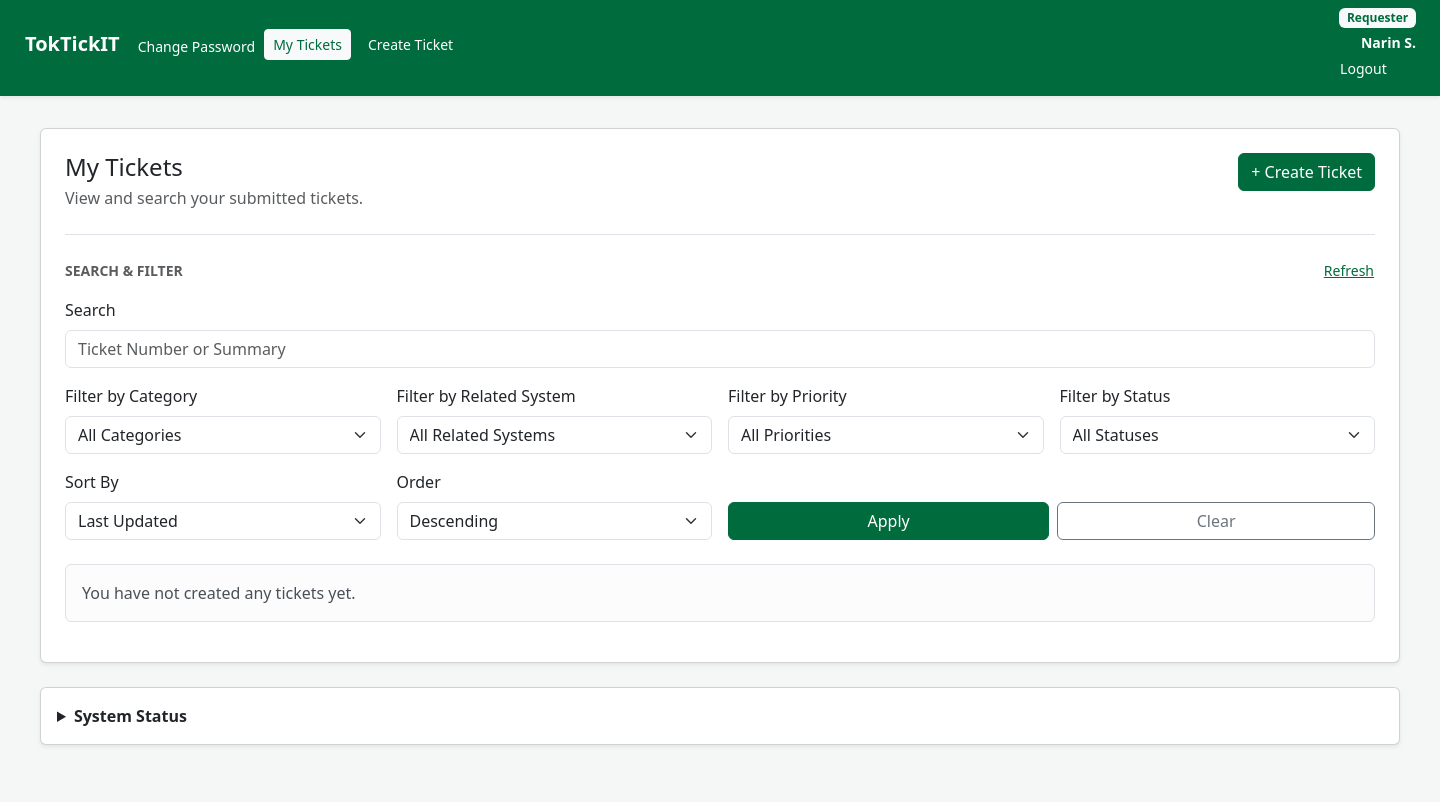
Lab 2 - Create Ticket UI › creates a ticket and displays the Ticket Number
Expected: the heading "My Tickets" is shown, [65,150,183,183]
Click the button "Create Ticket" at [410, 44], box [359,29,462,60]
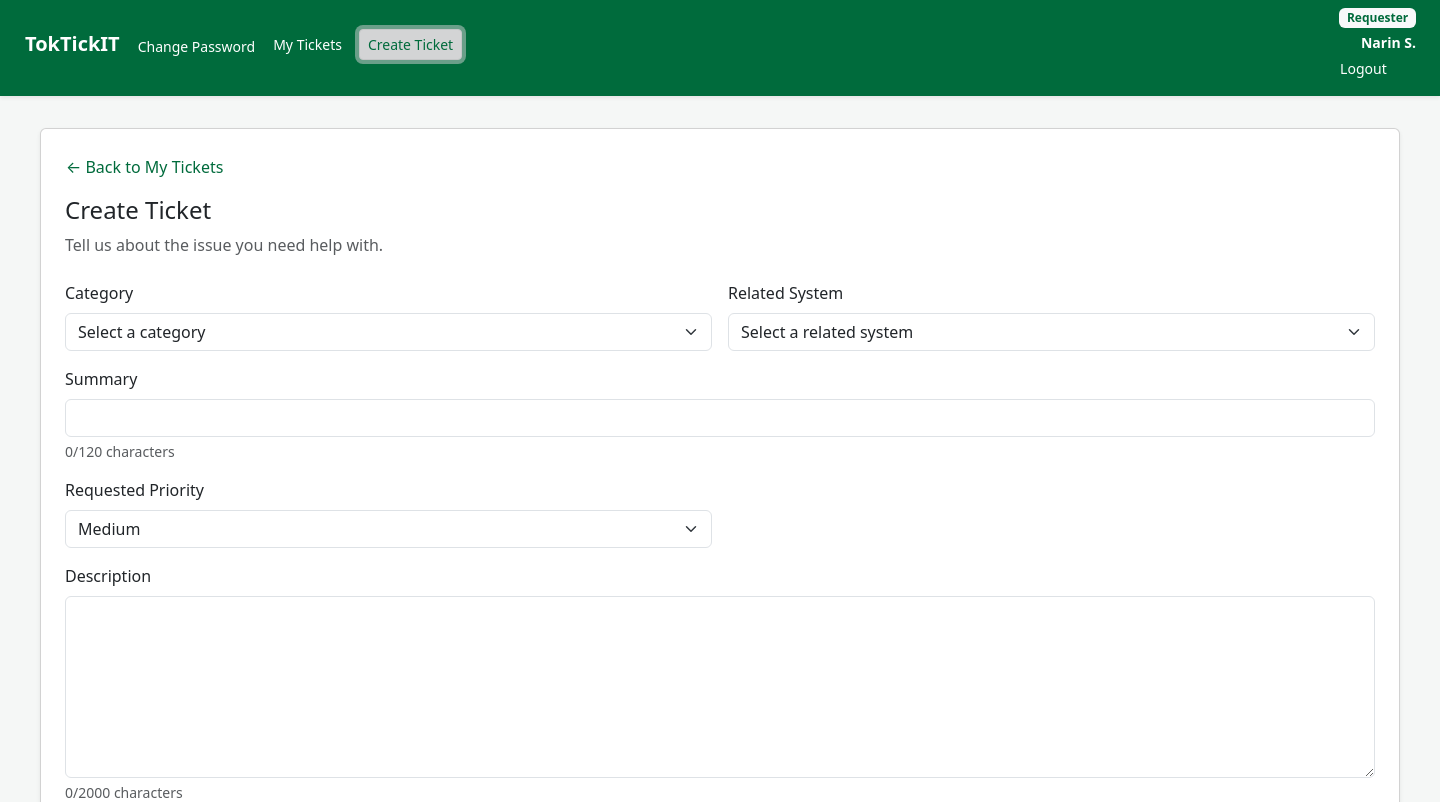
Now the heading "Create Ticket" is shown, box [65,193,211,226]
Select "Network" in the dropdown labelled "Category" at [388, 332], box [65,313,712,351]
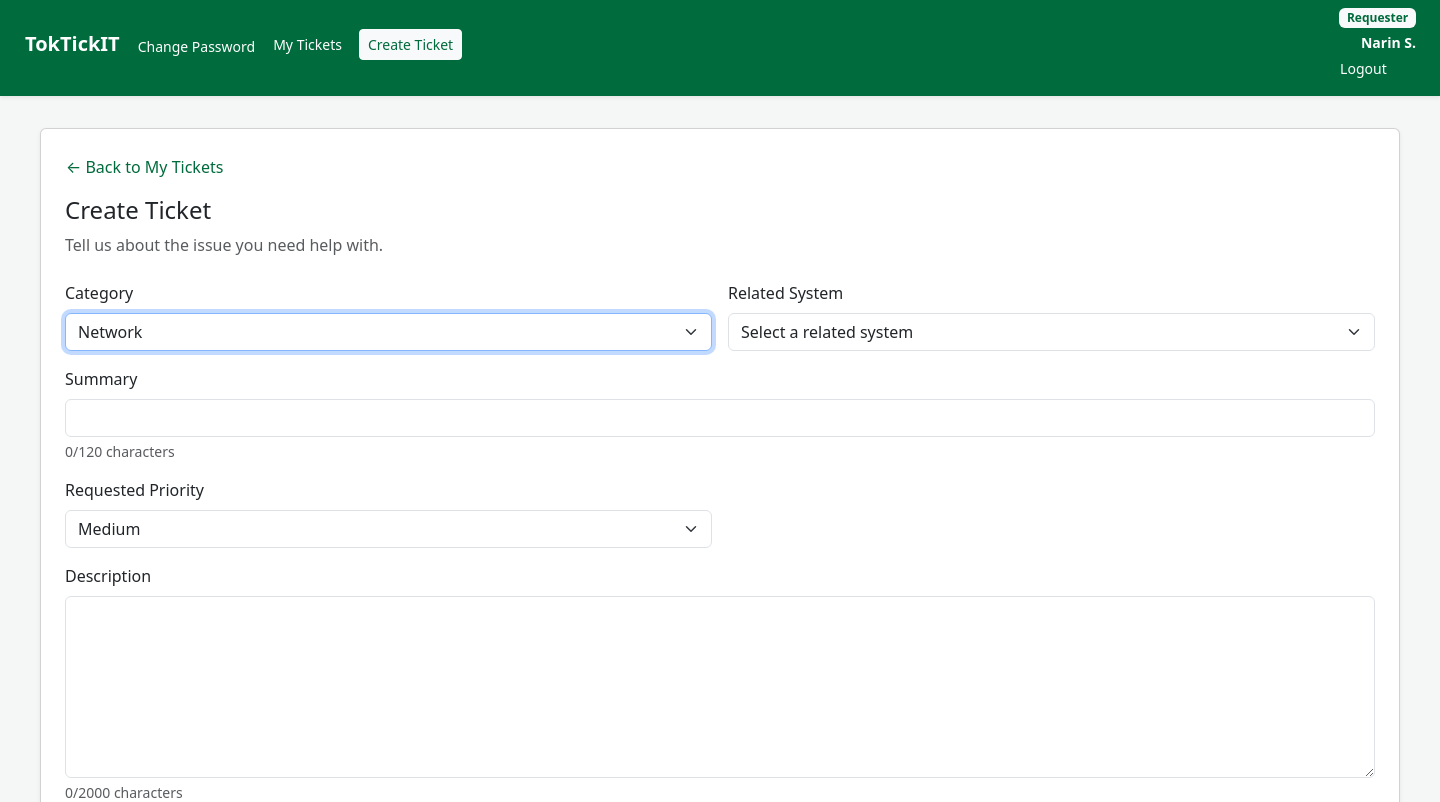
Select "Campus Wi-Fi" in the dropdown labelled "Related System" at [1052, 332], box [728,313,1375,351]
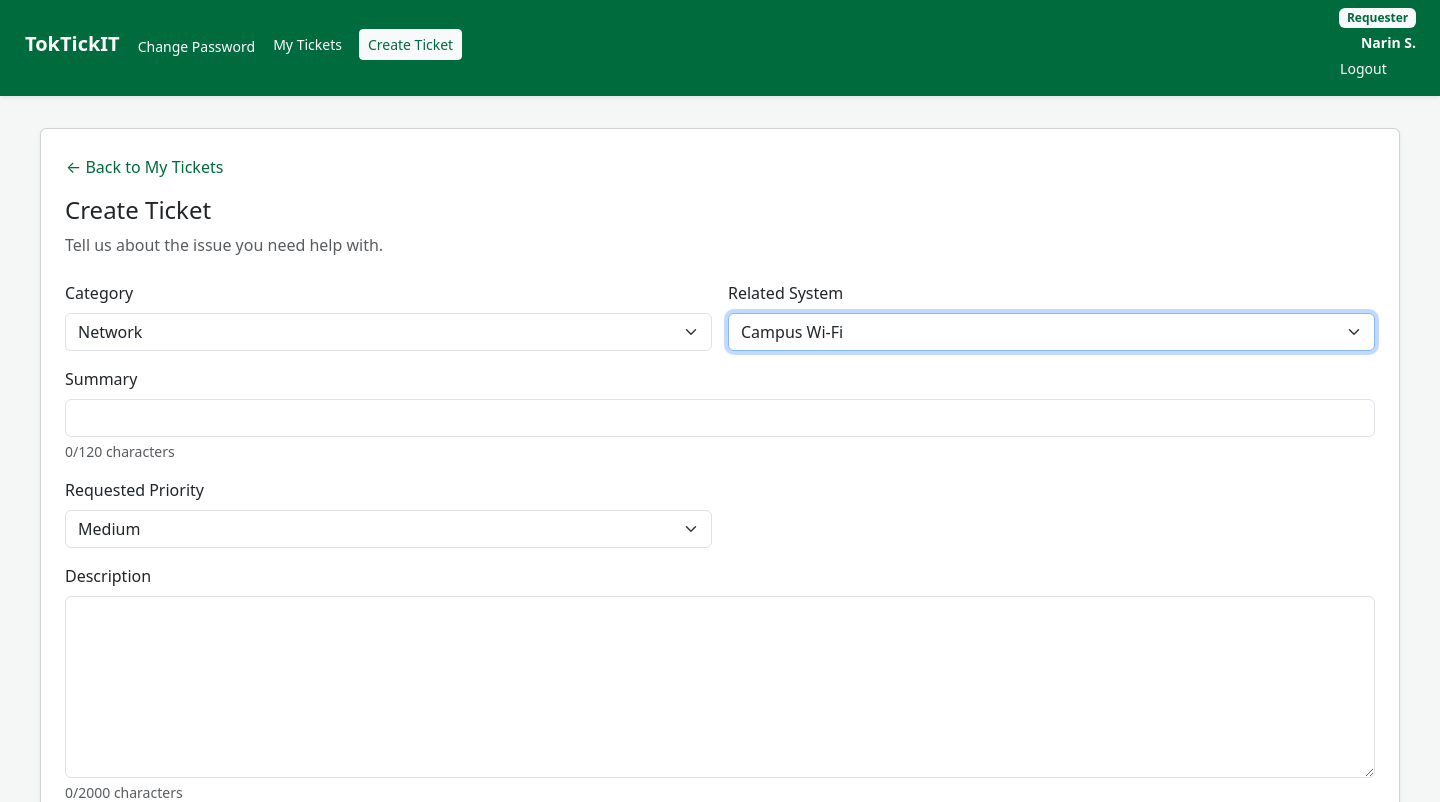
Type "Unable to connect to campus Wi-Fi" into the field labelled "Summary" at [720, 418], box [65,399,1375,437]
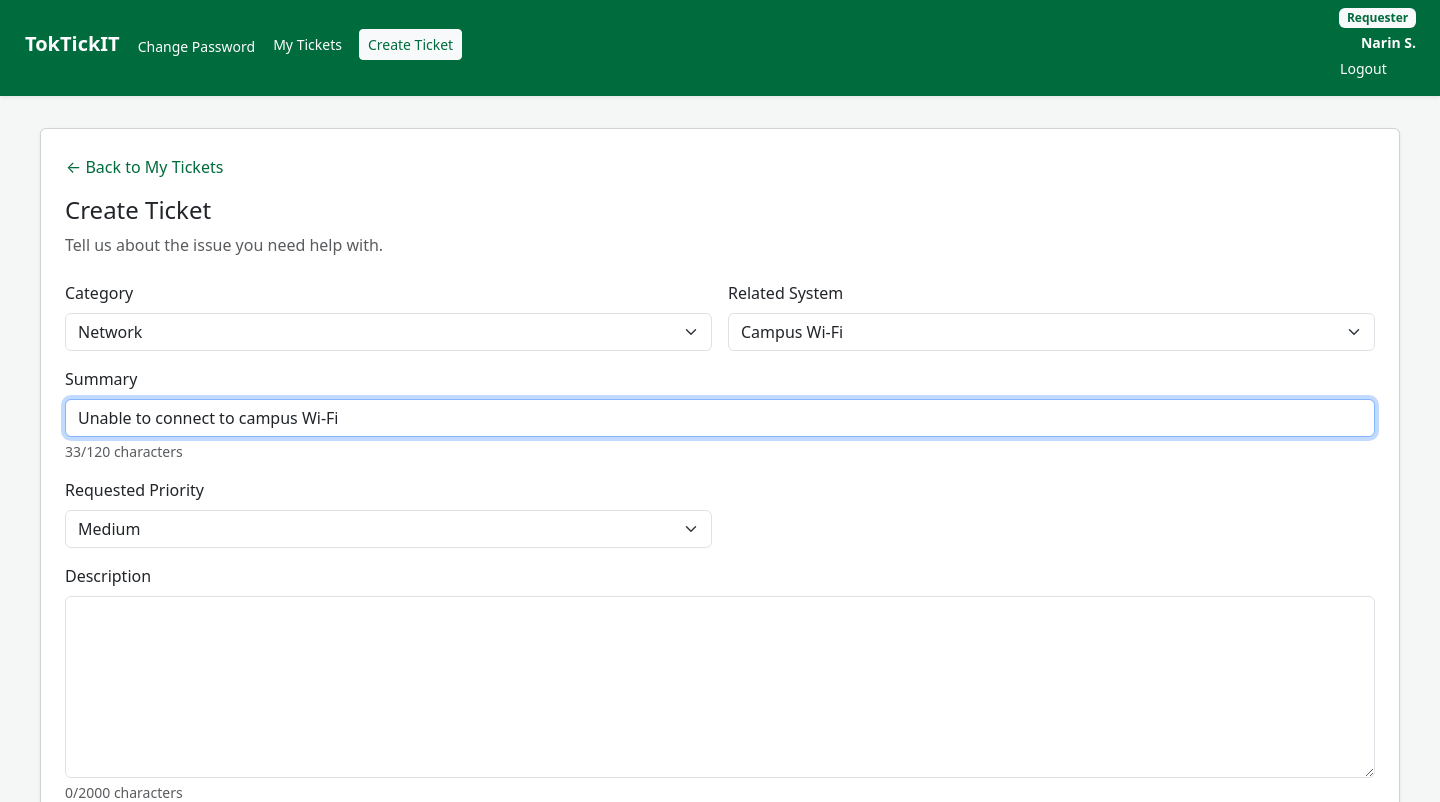
Type "I cannot connect to the campus Wi-Fi from the engineering building." into the text box labelled "Description" at [720, 687], box [65,596,1375,778]
(page scrolled)
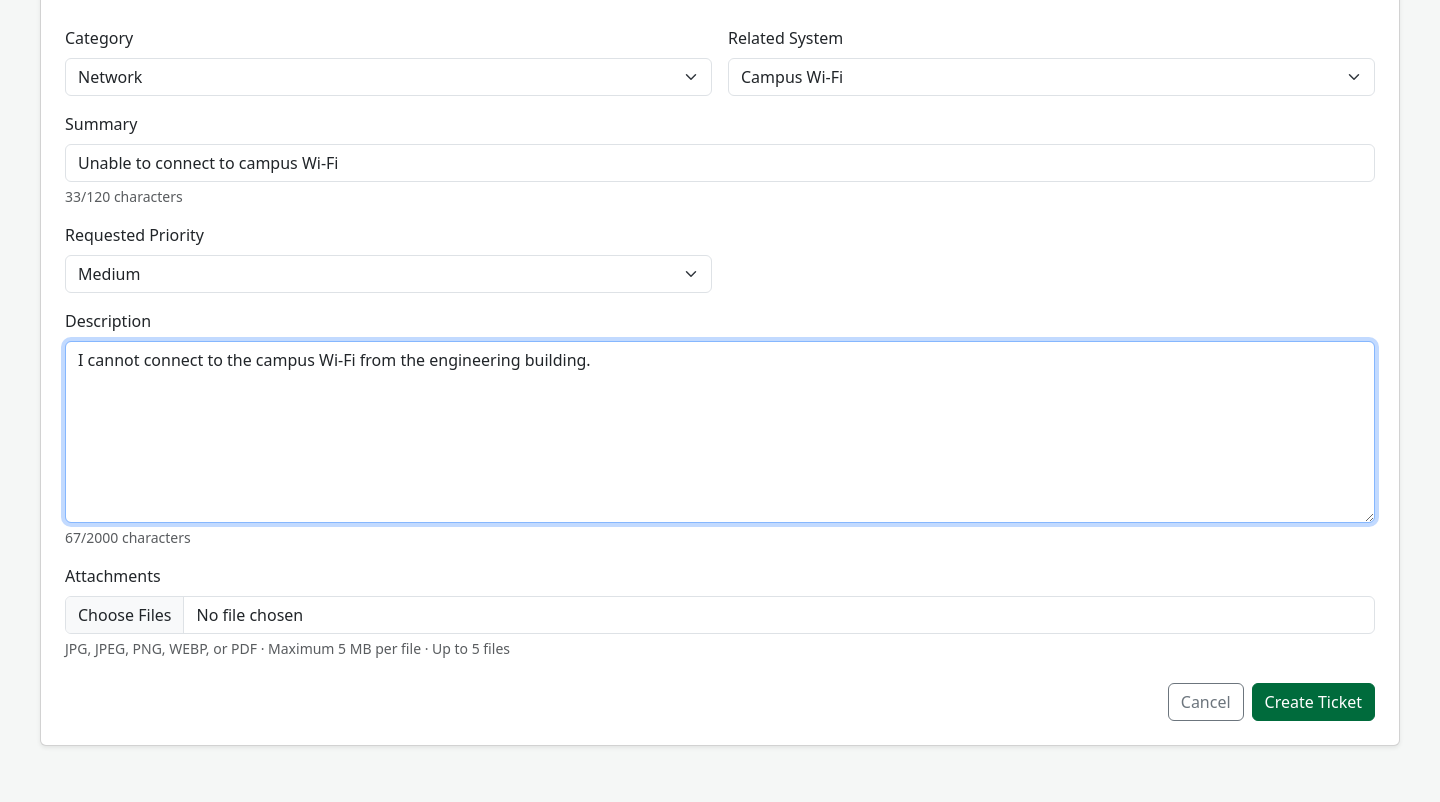
Click the submit button at [1313, 702], box [1252,683,1375,721]
(page scrolled)
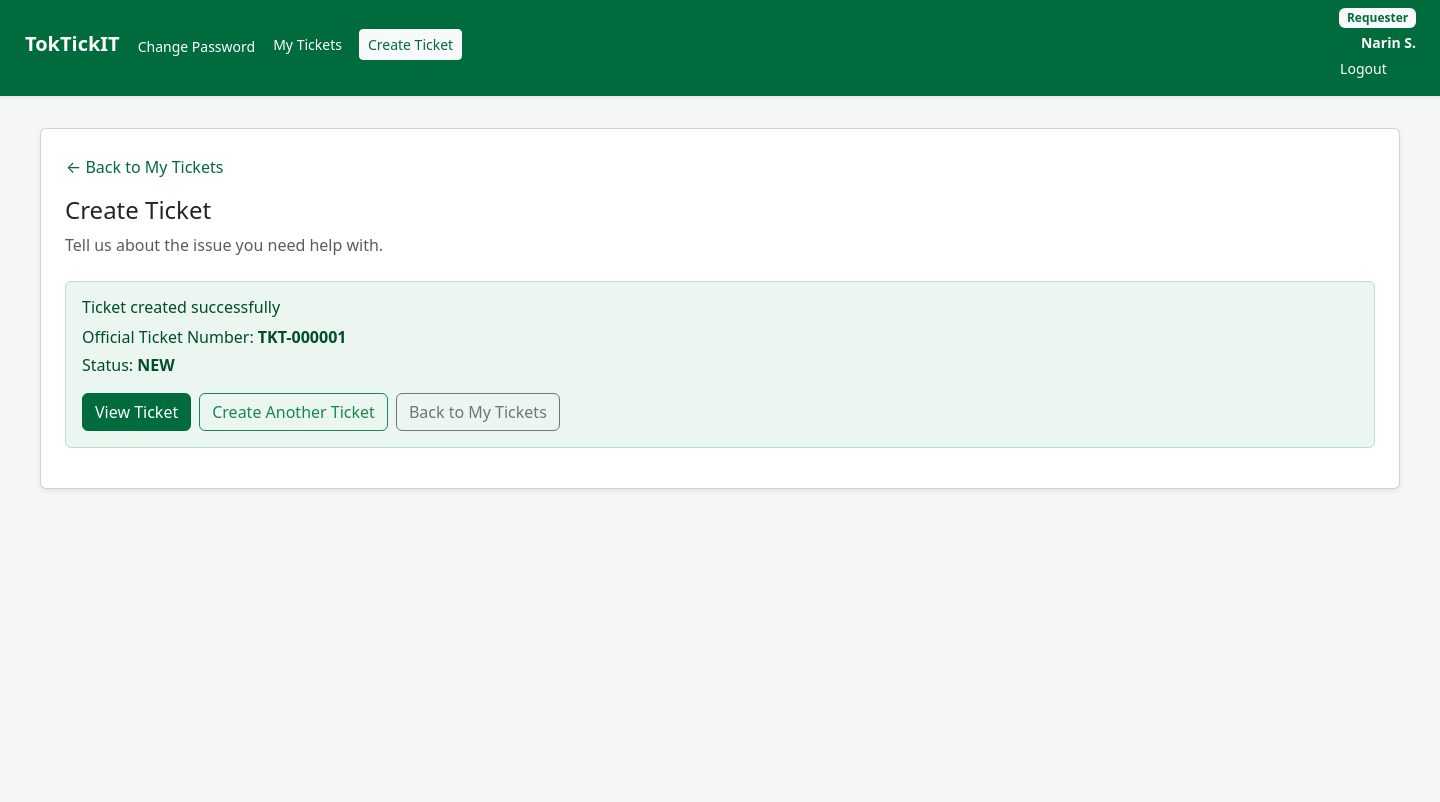
Now the heading "Ticket created successfully" is shown, box [82,296,280,318]
Now the text "TKT-000001" is shown, box [258,326,346,348]
Now the text "NEW" is shown, box [137,354,175,376]
